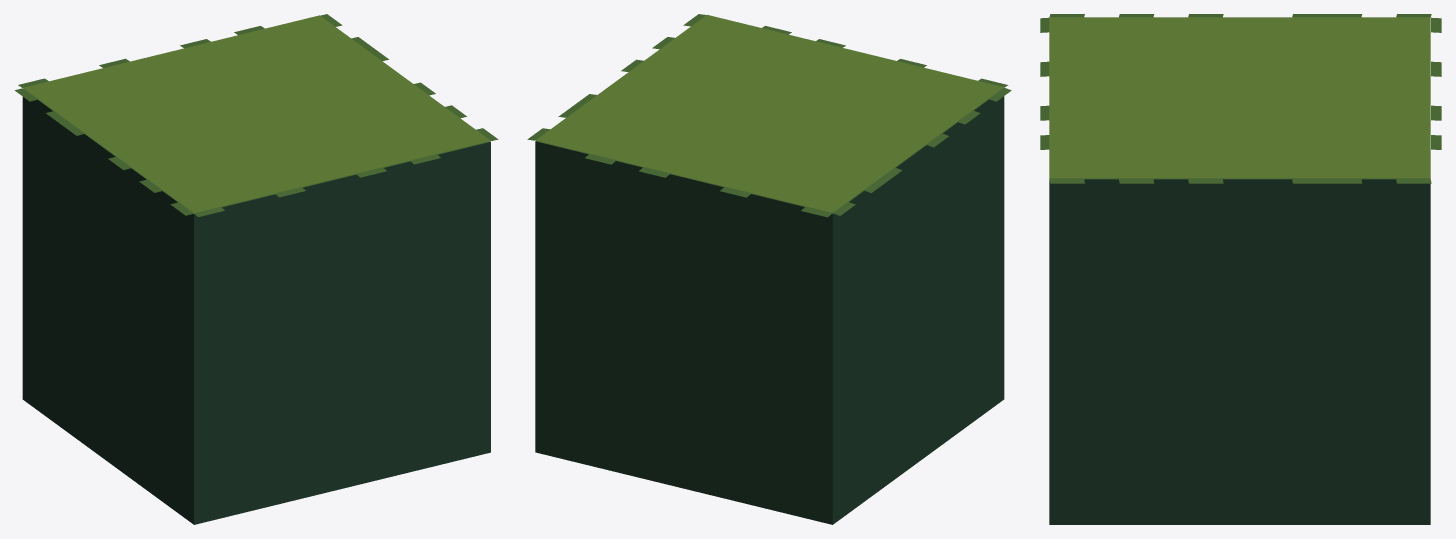
File: groundTileDryGrass.fbx
The picture shows the model from 3 angles, left to right: view 1: azimuth 30°, elevation 25°; view 2: azimuth 150°, elevation 25°; view 3: azimuth 270°, elevation 25°; orthographic projection. The views are drawn at different scales.
Parts seen in each view (by area): view 1: Mesh_GroundGrassDry; view 2: Mesh_GroundGrassDry; view 3: Mesh_GroundGrassDry.
Boxes of the visible parts, x1,y1,x2,y2 form: Mesh_GroundGrassDry: (15, 14, 498, 524); Mesh_GroundGrassDry: (527, 14, 1011, 524); Mesh_GroundGrassDry: (1040, 14, 1441, 524).
Size of the model in its own units: 2.11 by 2.11 by 2.01.
